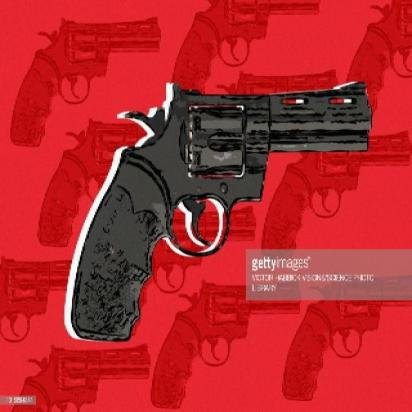Gun: (63, 80, 371, 344)
